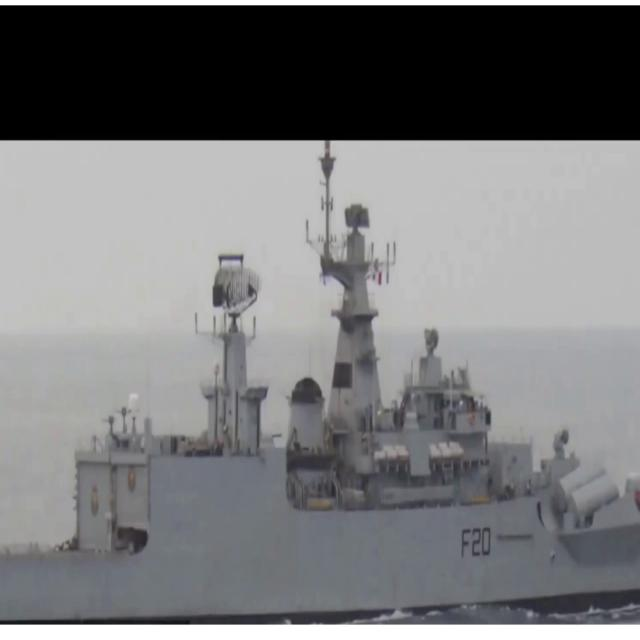OCR: (458, 522, 492, 562)
